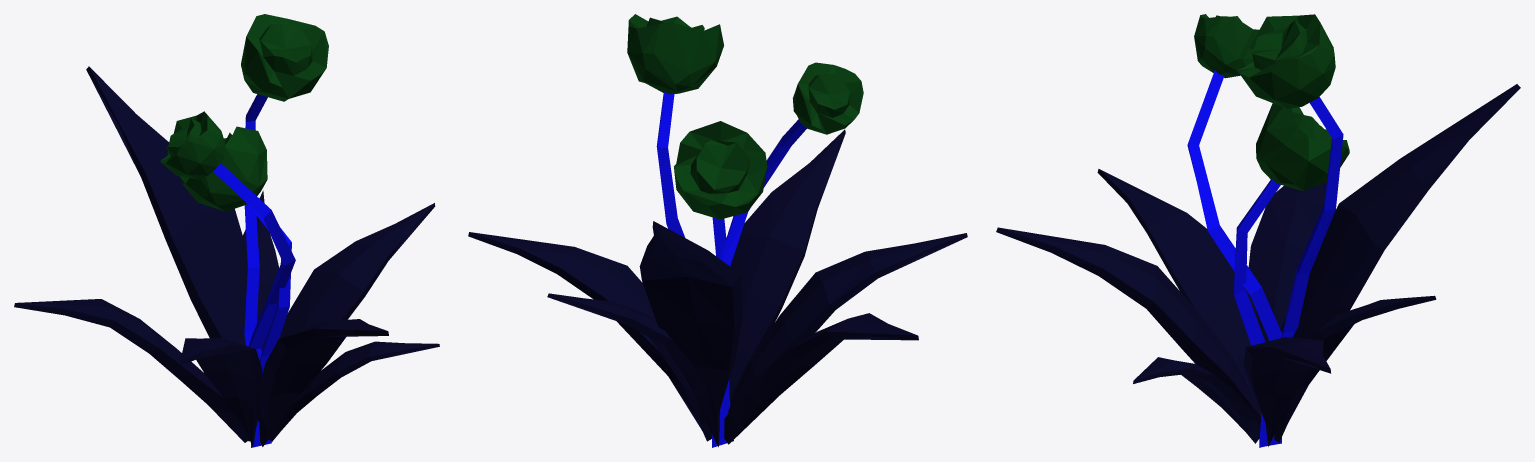
The model's file is PatchRose03.fbx.
3 views of the same model, side by side, from view 1: azimuth 30°, elevation 25°; view 2: azimuth 150°, elevation 25°; view 3: azimuth 270°, elevation 25° (orthographic). The views are drawn at different scales.
Parts seen in each view (by area): view 1: PatchRose03; view 2: PatchRose03; view 3: PatchRose03.
Part boxes in pixels (bbox=[...]): PatchRose03: bbox=[14, 14, 439, 447]; PatchRose03: bbox=[468, 14, 967, 447]; PatchRose03: bbox=[996, 14, 1520, 447].
Size of the model in its own units: 41.17 by 37.83 by 40.88.
